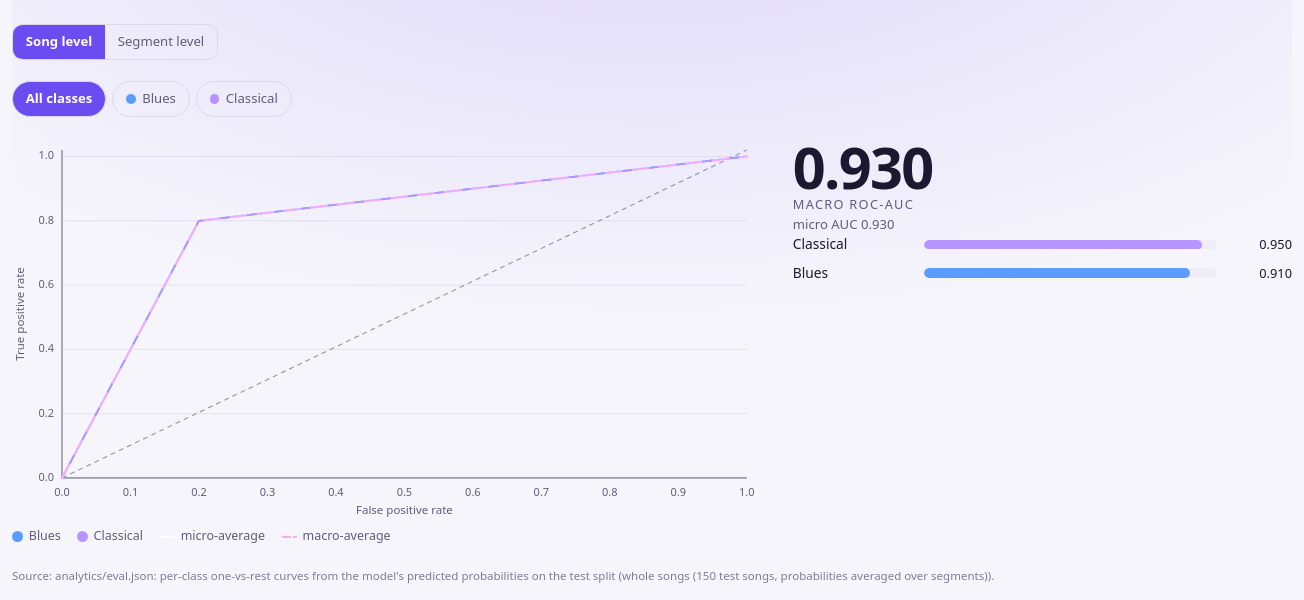
Test case: eval.json handling › lets the user switch the inspected class
Click the button "Classical". click: x=244, y=99
box: x1=196 y1=81 x2=292 y2=117
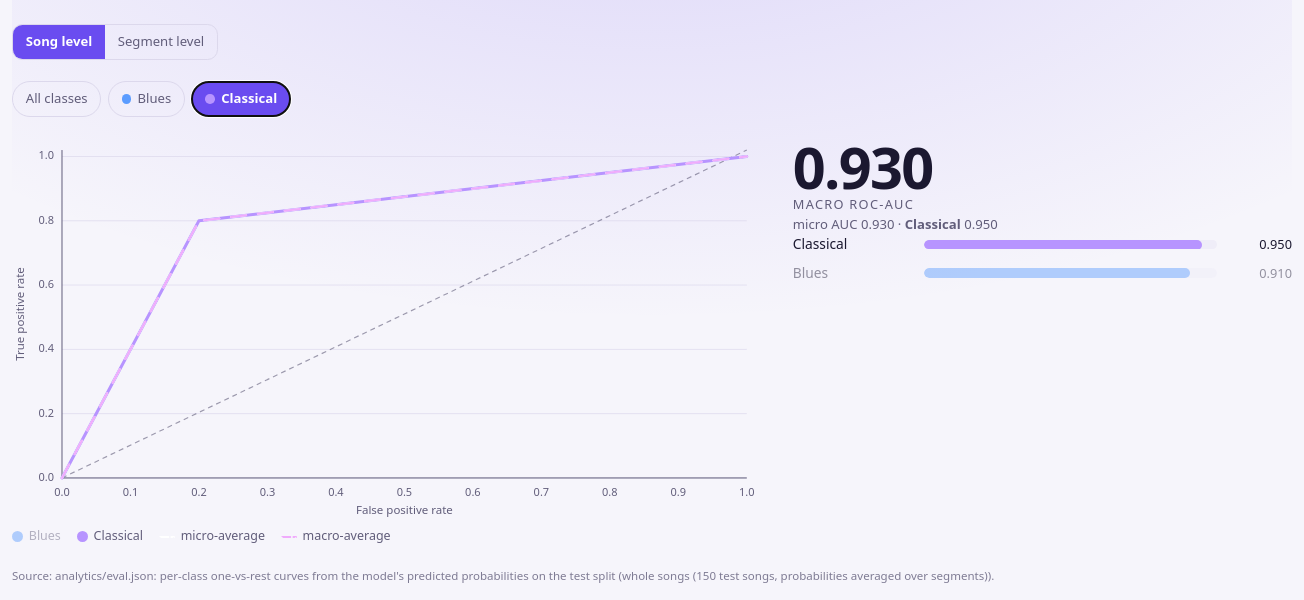
Expected: the text "micro AUC 0.930 · Classical 0.950" is shown, x1=793 y1=214 x2=998 y2=232
